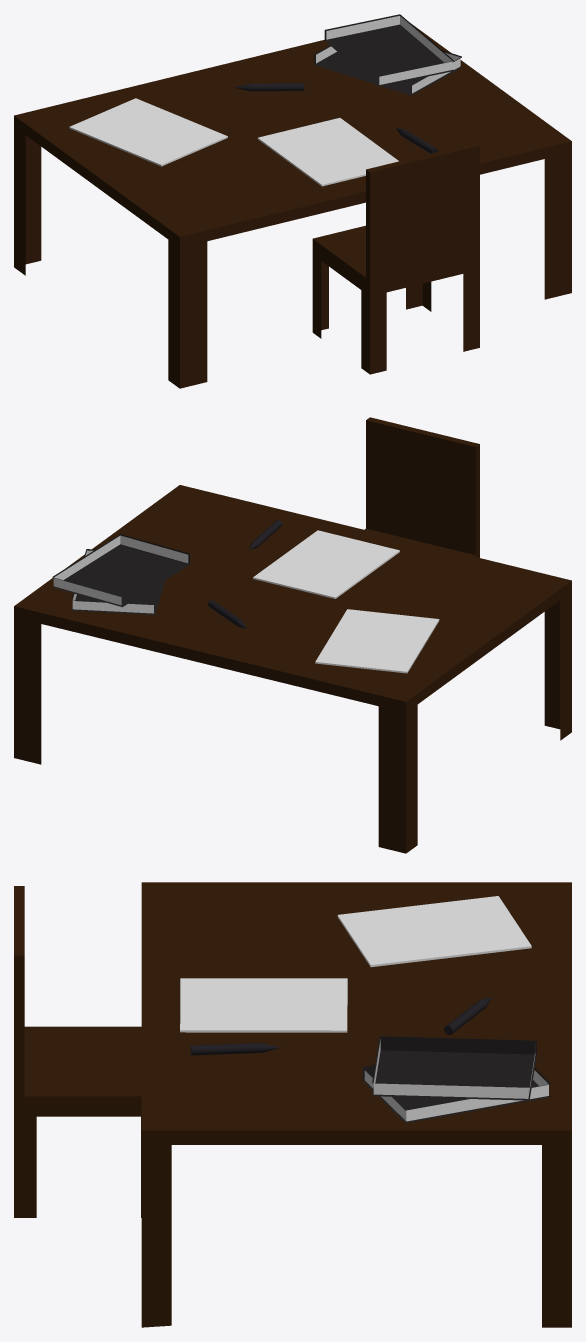
File: room.glb
3 renders of one model, top to bottom at view 1: azimuth 30°, elevation 25°; view 2: azimuth 150°, elevation 25°; view 3: azimuth 270°, elevation 25°, orthographic. The views are drawn at different scales.
Visible parts, largest first — view 1: Desk, Chair, Book-2, Paper-2, Paper, Book, Pen-2; view 2: Desk, Chair, Book-2, Paper, Paper-2, Book; view 3: Desk, Chair, Book-2, Paper-2, Paper, Book, Pen, Pen-2.
Boxes of the visible parts, box(x1,y1,x2,y2) form: Desk: box(14, 24, 571, 388); Chair: box(312, 142, 479, 374); Book-2: box(324, 14, 453, 86); Paper-2: box(69, 98, 227, 166); Paper: box(257, 118, 398, 186); Book: box(314, 41, 461, 95); Pen-2: box(234, 83, 304, 91); Desk: box(14, 485, 571, 853); Chair: box(364, 417, 479, 557); Book-2: box(52, 534, 189, 607); Paper: box(253, 530, 399, 598); Paper-2: box(315, 609, 439, 673); Book: box(71, 549, 164, 614); Desk: box(141, 882, 571, 1327); Chair: box(14, 886, 141, 1217); Book-2: box(372, 1036, 536, 1100); Paper-2: box(337, 896, 531, 967); Paper: box(180, 978, 347, 1032); Book: box(362, 1053, 550, 1123); Pen: box(190, 1043, 280, 1055); Pen-2: box(444, 997, 492, 1034).
Size of the model in its own units: 2.73 by 1.45 by 2.59.
